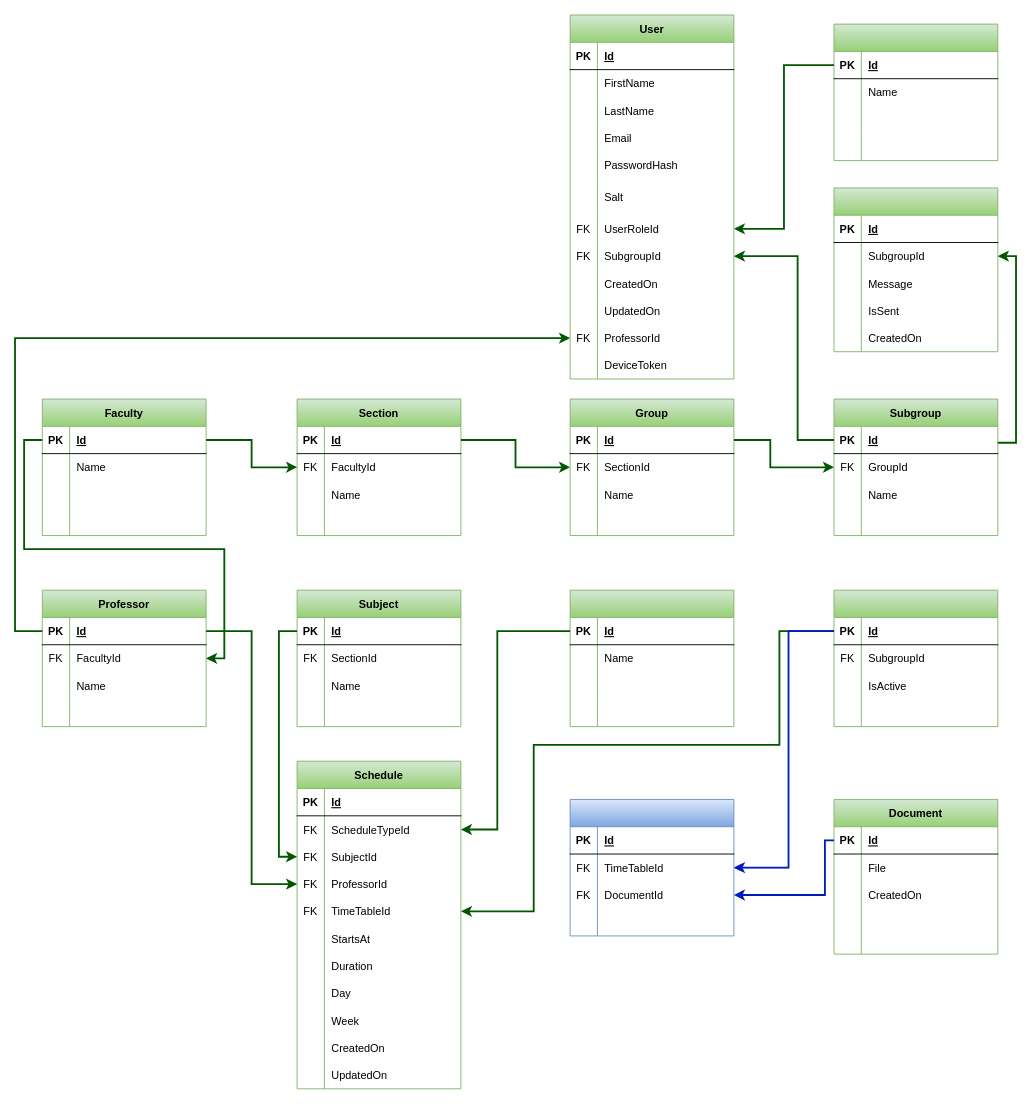
This 1031x1104 diagram has some shape labels left out. Here are the shapes that lost their labels. From the top down, the box of each, then its label:
(833, 23, 998, 161): UserRole
(833, 187, 998, 352): Notification
(569, 589, 734, 727): ScheduleType
(833, 589, 998, 727): TimeTable
(569, 799, 734, 936): DocumentTimeTable
